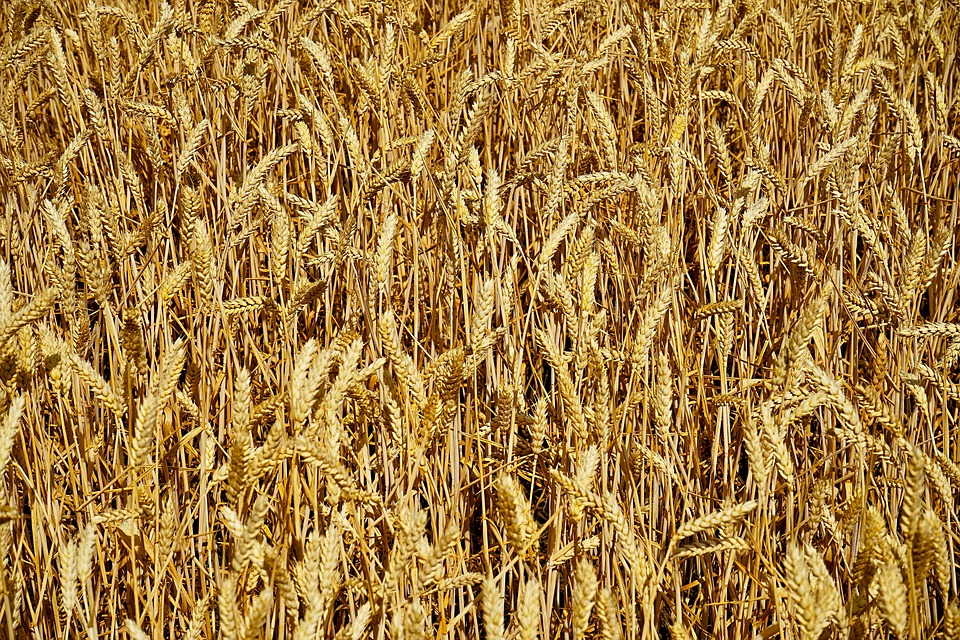Wheat: (58, 146, 916, 578)
